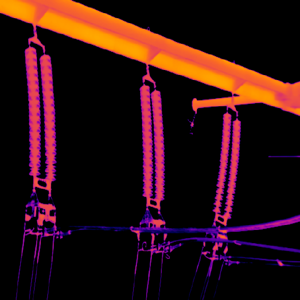insulator: (24, 45, 52, 181), (212, 108, 241, 224), (140, 82, 164, 208)
